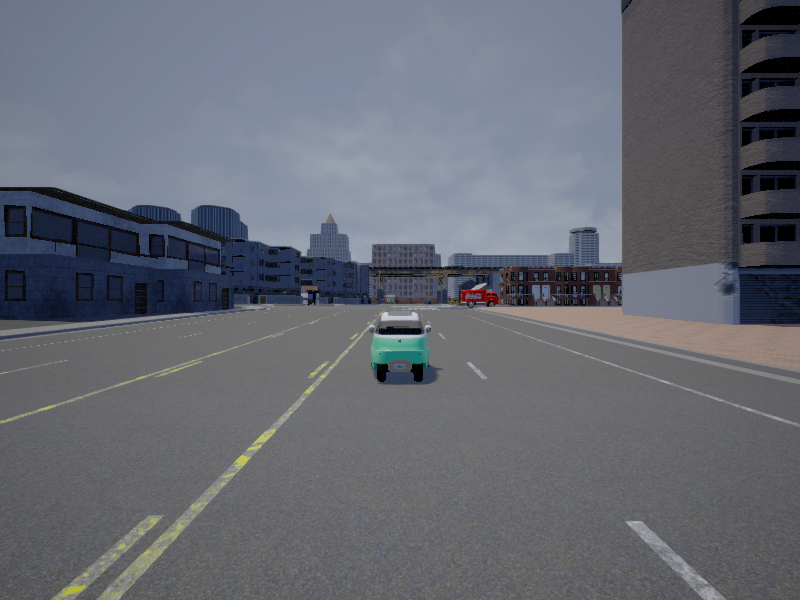Benign: (369, 311, 431, 382), (460, 288, 501, 309)
